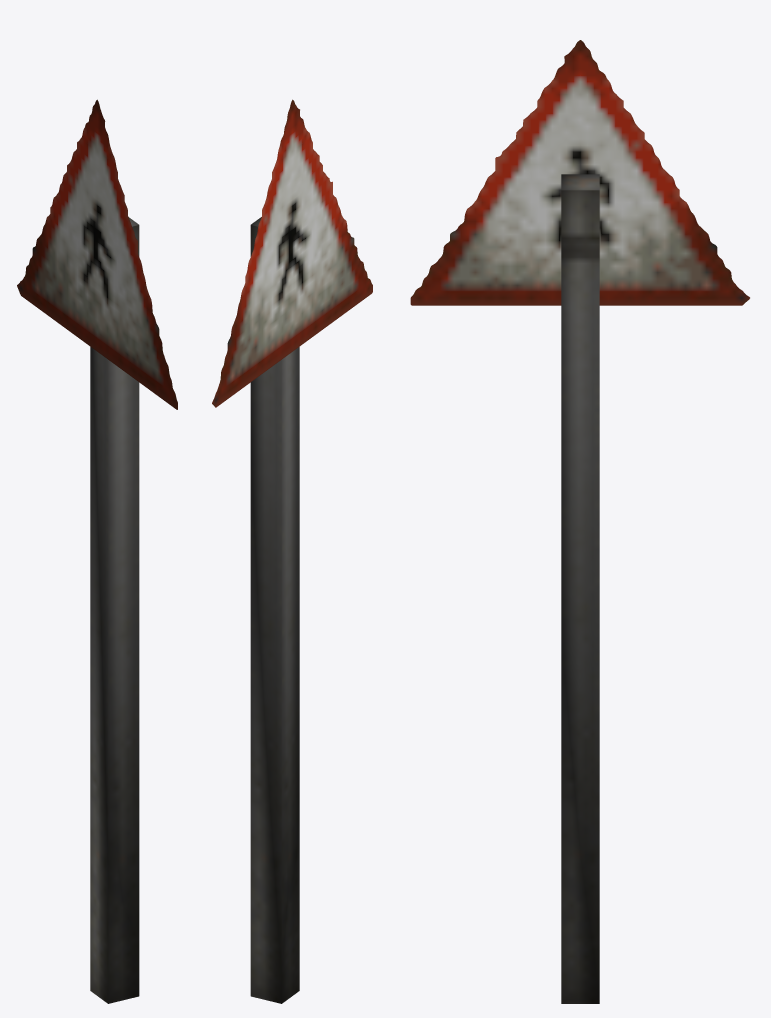
File: roadsign2.fbx
3 views of the same model, side by side, from view 1: azimuth 30°, elevation 25°; view 2: azimuth 150°, elevation 25°; view 3: azimuth 270°, elevation 25° (orthographic). The views are drawn at different scales.
Parts seen in each view (by area): view 1: roadsign2; view 2: roadsign2; view 3: roadsign2.
Part boxes in pixels (bbox=[...]): roadsign2: bbox=[17, 99, 177, 1003]; roadsign2: bbox=[212, 99, 372, 1003]; roadsign2: bbox=[410, 40, 749, 1003].
Size of the model in its own units: 11.4 by 100 by 305.
Materials: 1 (1 with a texture image).
